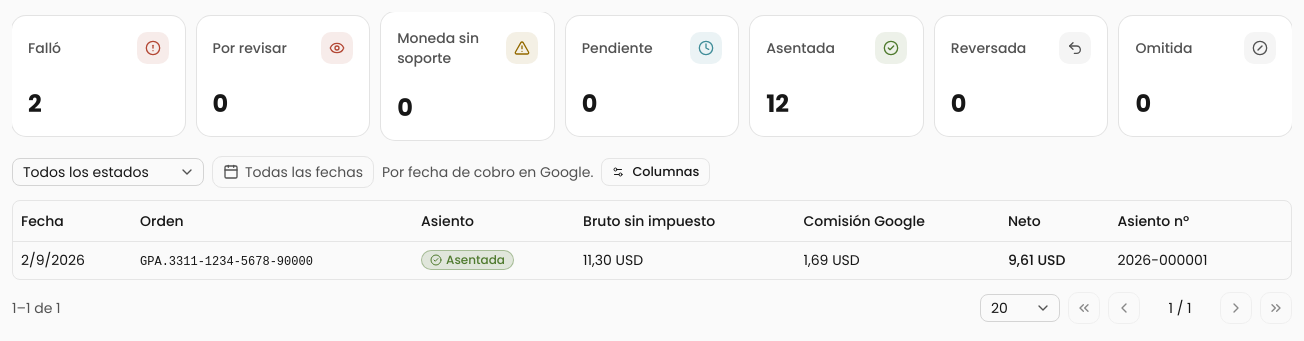
it: FinancePlayOrders — resumen en siete cards › un clic en una card de acción filtra la tabla por ese estado
Click the button "Falló 2" at x=98, y=76, box [12,12,185,140]
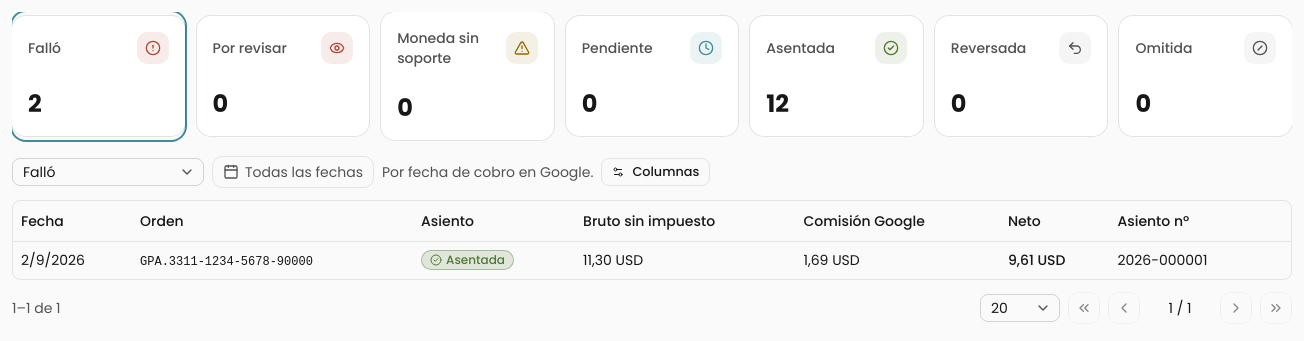
Check: the dropdown named "Filtrar por estado" reads "Falló", box [12,158,204,186]
// Y el segundo clic lo quita: la card es un interruptor, no un viaje de ida.
Click the button "Falló 2" at x=98, y=76, box [12,12,185,140]
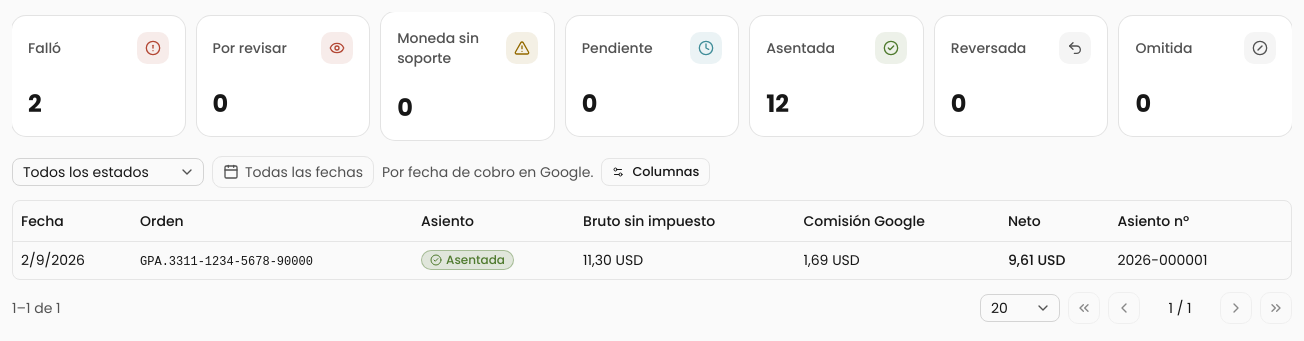
Check: the dropdown named "Filtrar por estado" shows "Todos", box [12,158,204,186]
